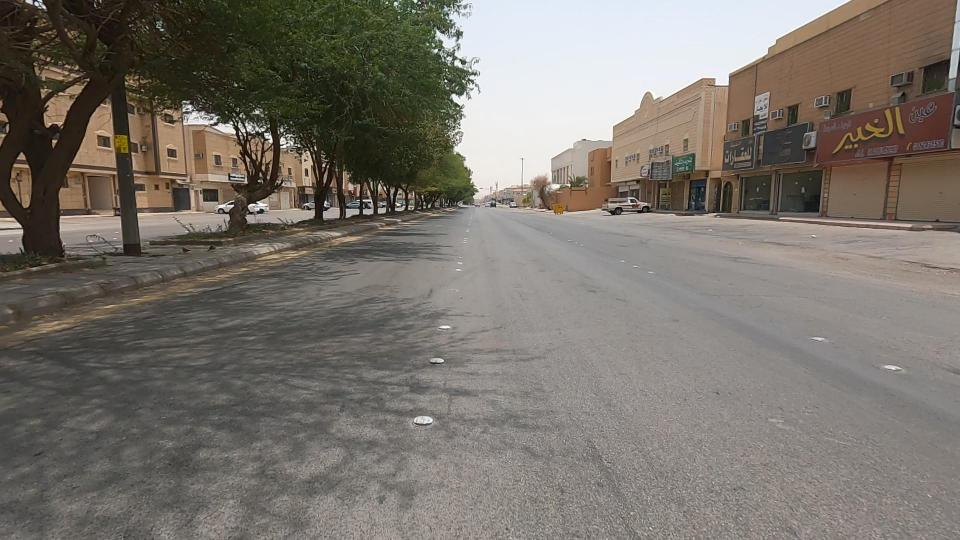BAD_BILLBOARD: (730, 102, 828, 184), (622, 139, 691, 194)
